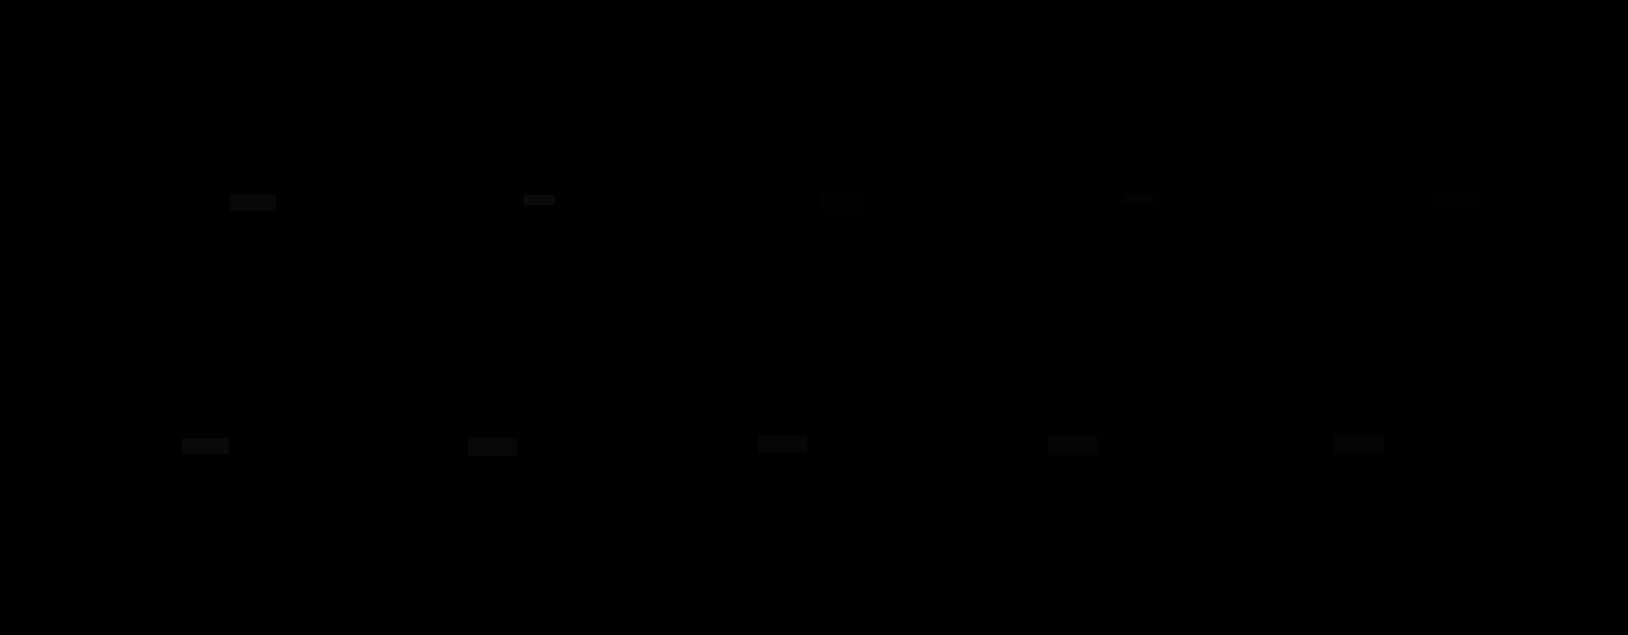light: (1048, 437, 1098, 455), (1334, 435, 1384, 453), (758, 435, 807, 453), (468, 438, 517, 455), (182, 438, 229, 454), (230, 194, 276, 211), (820, 192, 863, 209), (1436, 192, 1480, 208), (524, 195, 555, 205), (1123, 194, 1154, 204)
